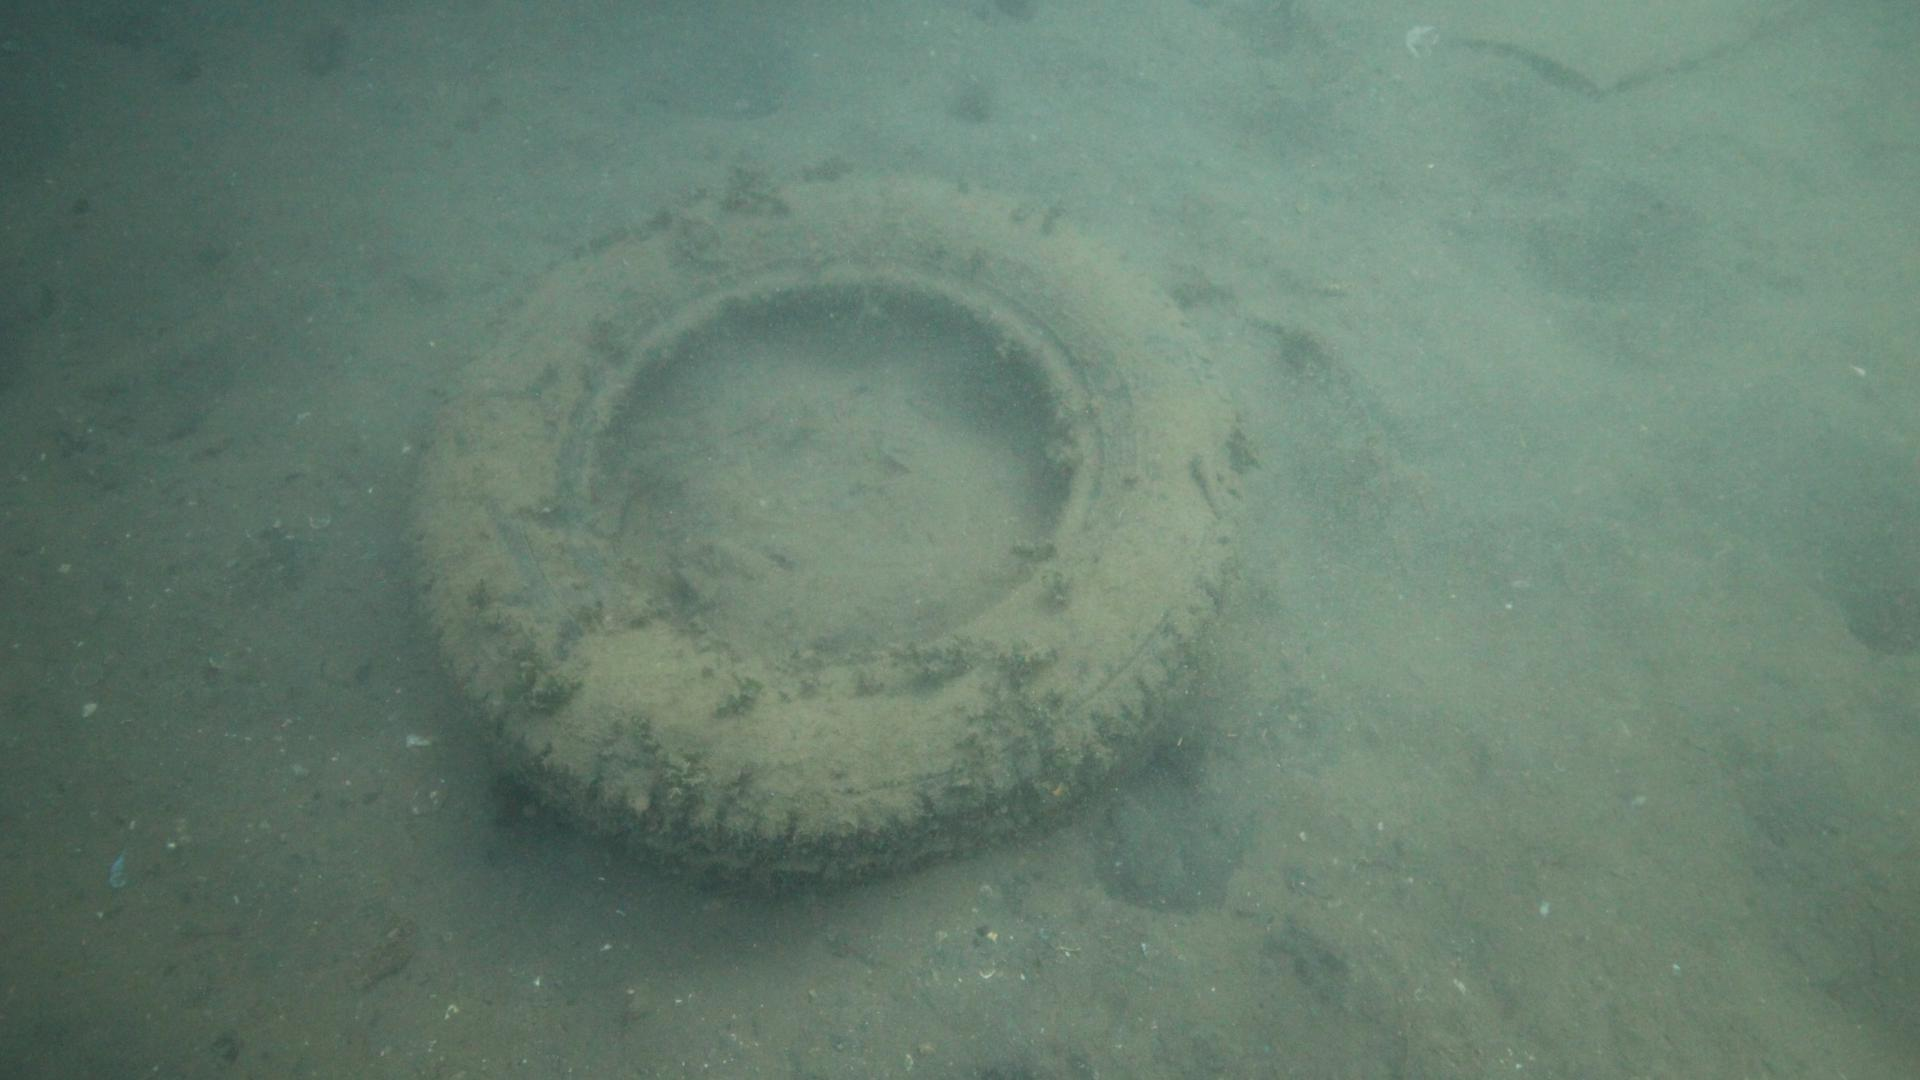tire: (405, 165, 1244, 898)
